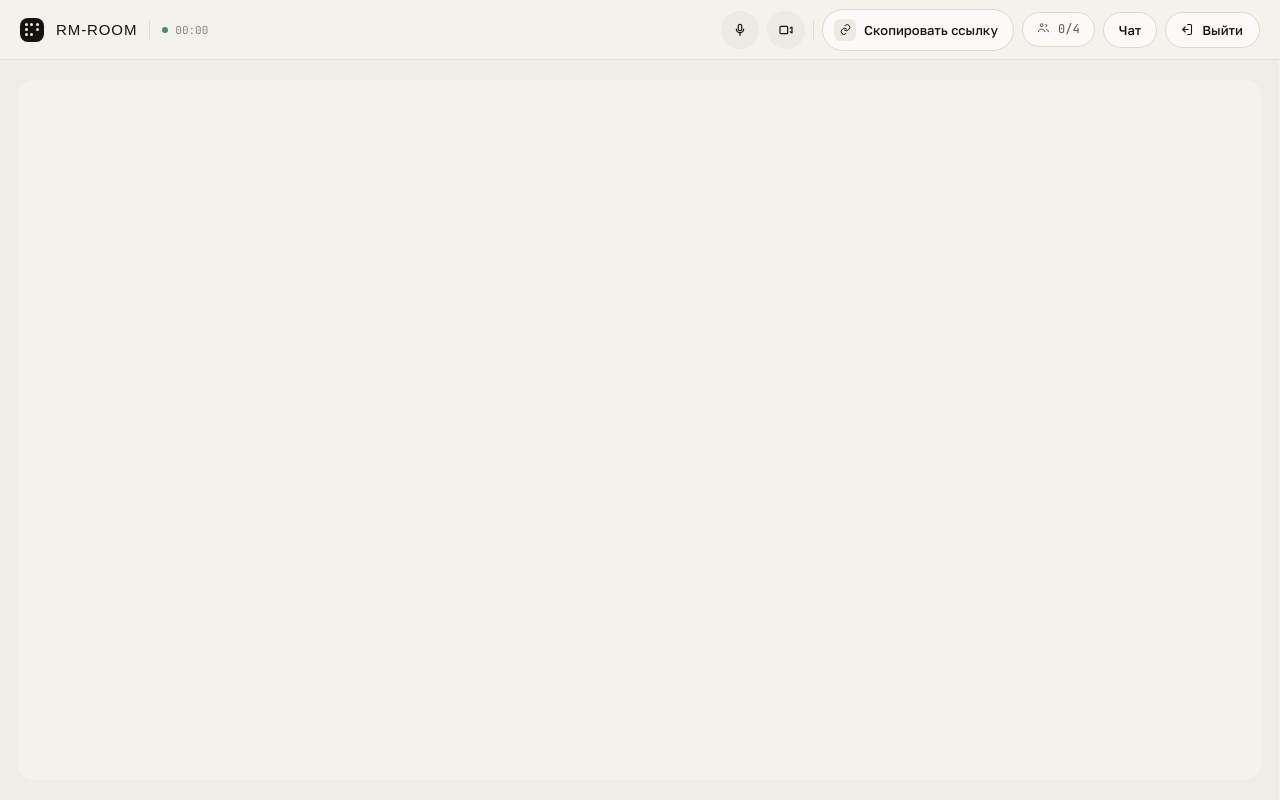
RoomScreen (Design §4.2/§5.3/§7.1, критерий приёмки задачи 24) › Задача 38 — гейт «Выйти» (критерий приёмки: клик больше НЕ эмитит leave напрямую) › «Остаться» закрывает гейт без эмита leave
What coordinates should you click on to do the following:
click the button with test id "leave-button"
I would click on:
 (1213, 30)
Its box is [1165,12,1260,48].
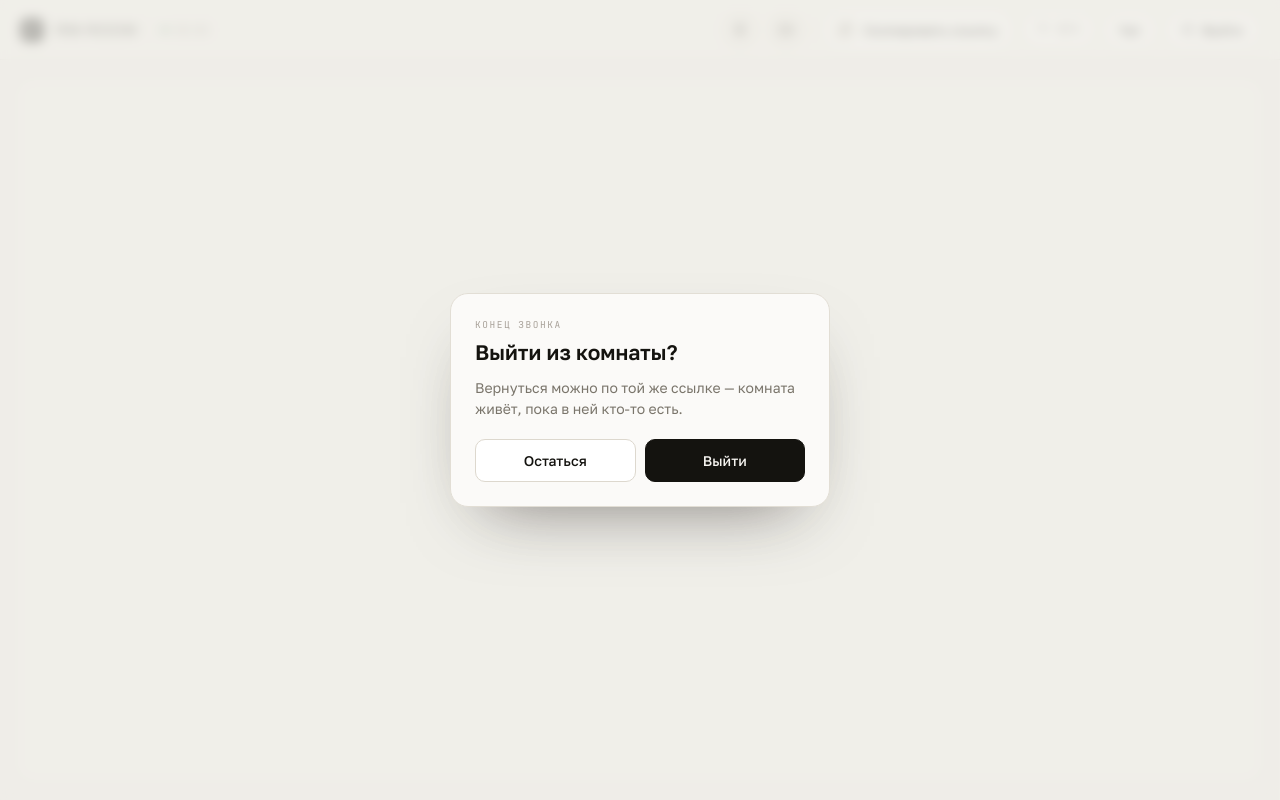
What coordinates should you click on to do the following:
click the button with test id "exit-confirm-stay"
I would click on:
 (555, 460)
Its box is [475,439,636,482].
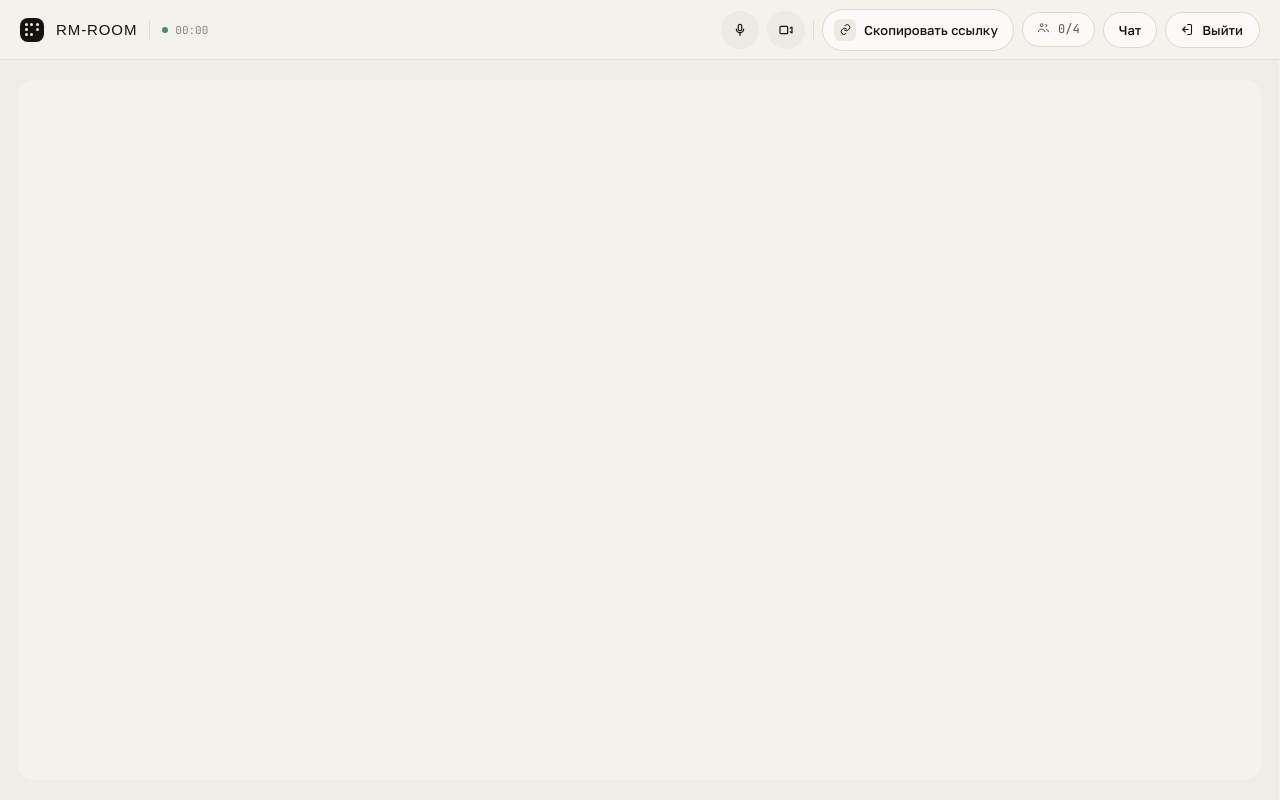
Check: the dialog with test id "exit-confirm" is gone
